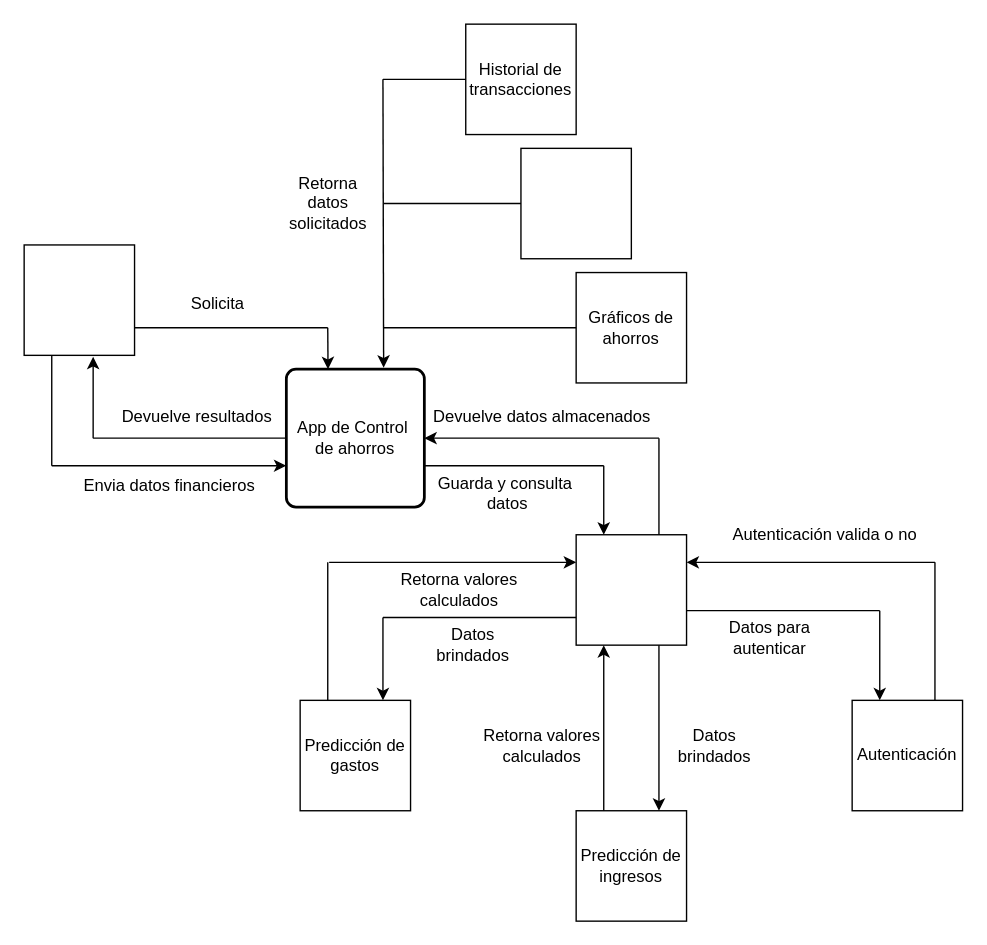
This 987x945 diagram has some shape labels left out. The centre of each missing label's shape, as x and y in pixels:
"Base de datos" goes at [631,589].
"Exportar datos" goes at [575,203].
"Usuario" goes at [79,299].
